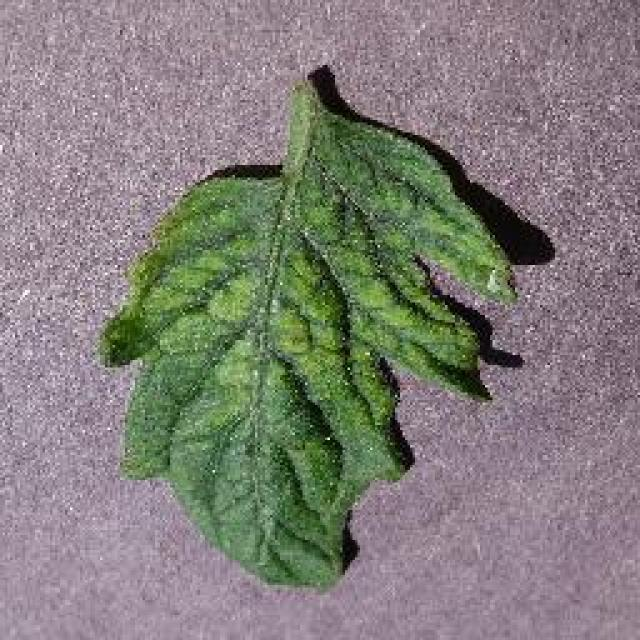Tomato___Tomato_mosaic_virus: (100, 80, 512, 585)
